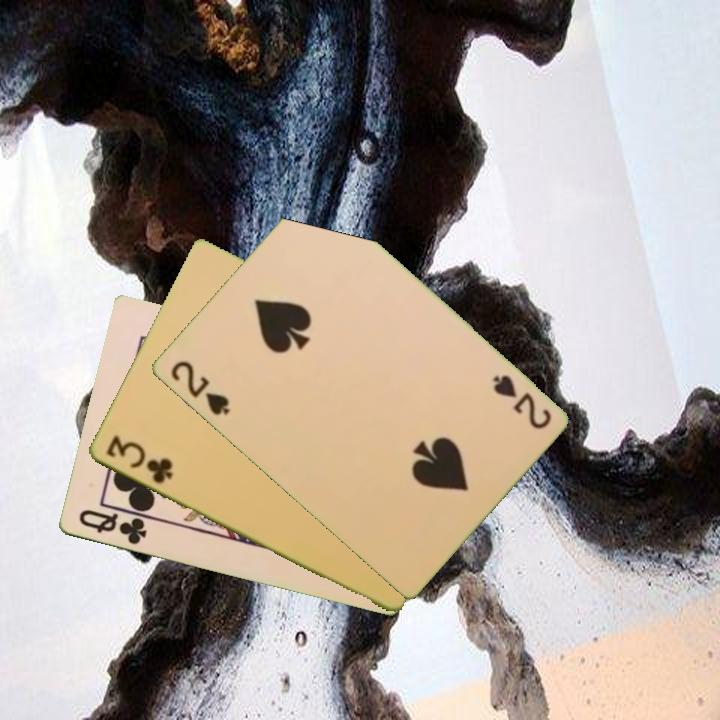2s: (166, 357, 233, 419), (488, 371, 554, 433)
3c: (102, 431, 175, 487)
Qc: (74, 506, 150, 548)
